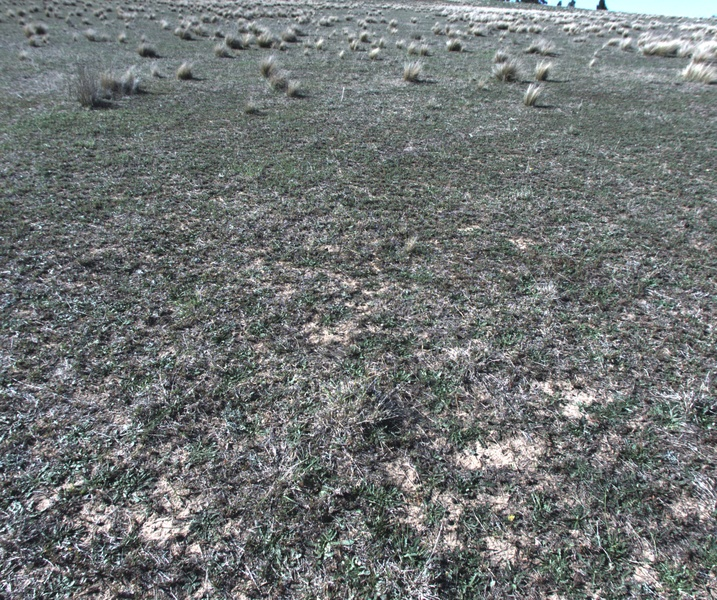st: (634, 37, 687, 56), (518, 79, 545, 112), (402, 60, 435, 87), (115, 66, 142, 93), (681, 62, 717, 81), (492, 60, 517, 84), (175, 62, 202, 84), (488, 49, 519, 68), (691, 44, 717, 64), (222, 34, 249, 53), (81, 26, 111, 43), (138, 38, 158, 63), (526, 35, 552, 54), (443, 37, 470, 54), (148, 63, 167, 86), (606, 36, 635, 51), (283, 25, 307, 43), (283, 76, 303, 97), (532, 59, 552, 79), (259, 57, 275, 81), (214, 47, 238, 62), (24, 24, 45, 37), (258, 32, 274, 49), (420, 40, 432, 59), (175, 27, 192, 40), (475, 22, 485, 38), (406, 39, 416, 54), (358, 28, 368, 42), (117, 31, 127, 45), (370, 50, 381, 61)
